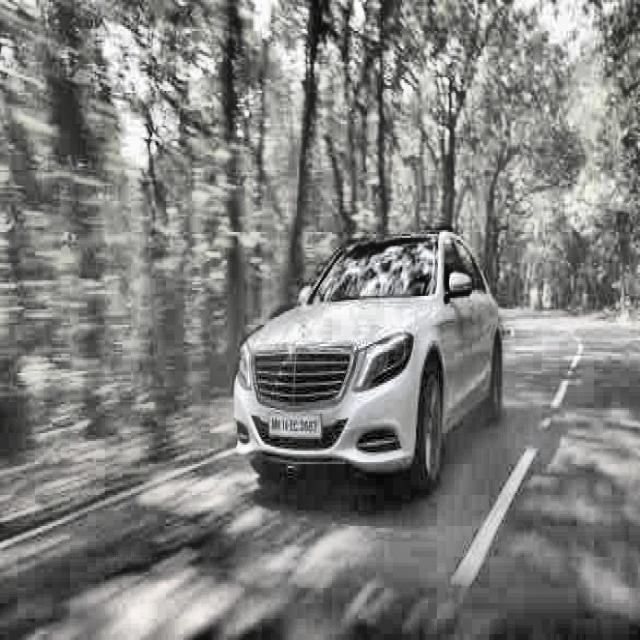license_plate: (268, 411, 322, 440)
